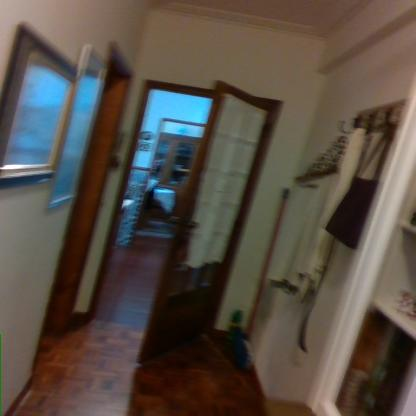semi: (89, 61, 292, 362)
